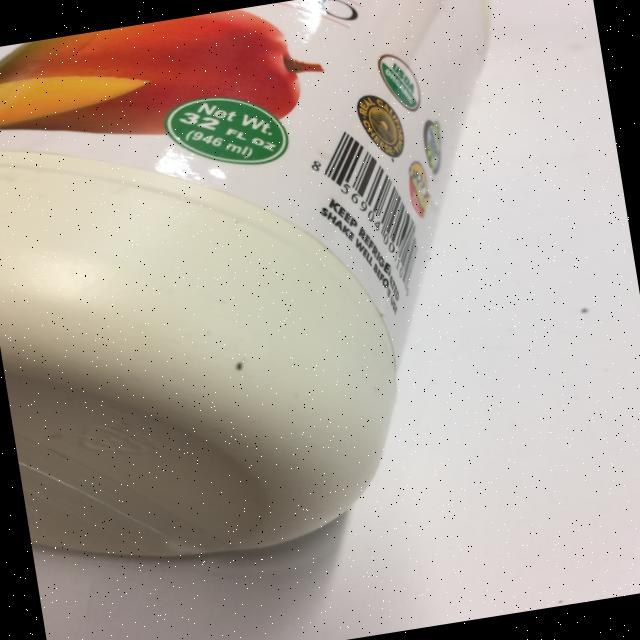plastic: (0, 0, 566, 584)
